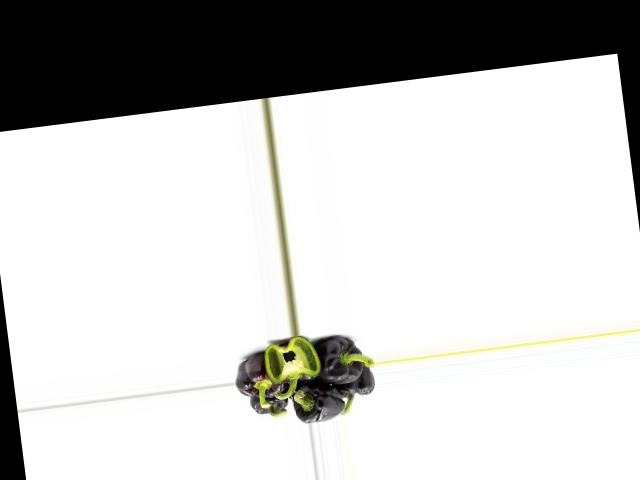bell_pepper: (234, 351, 295, 401)
